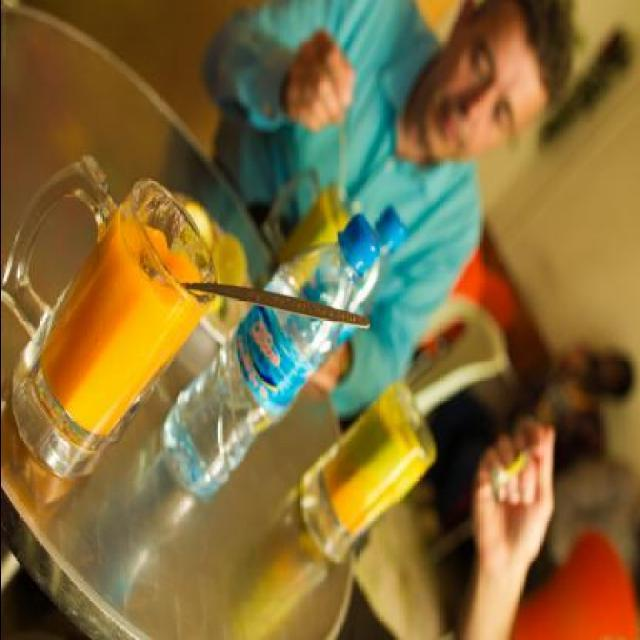Juice: (17, 180, 200, 482), (320, 392, 426, 536), (274, 190, 340, 302)
